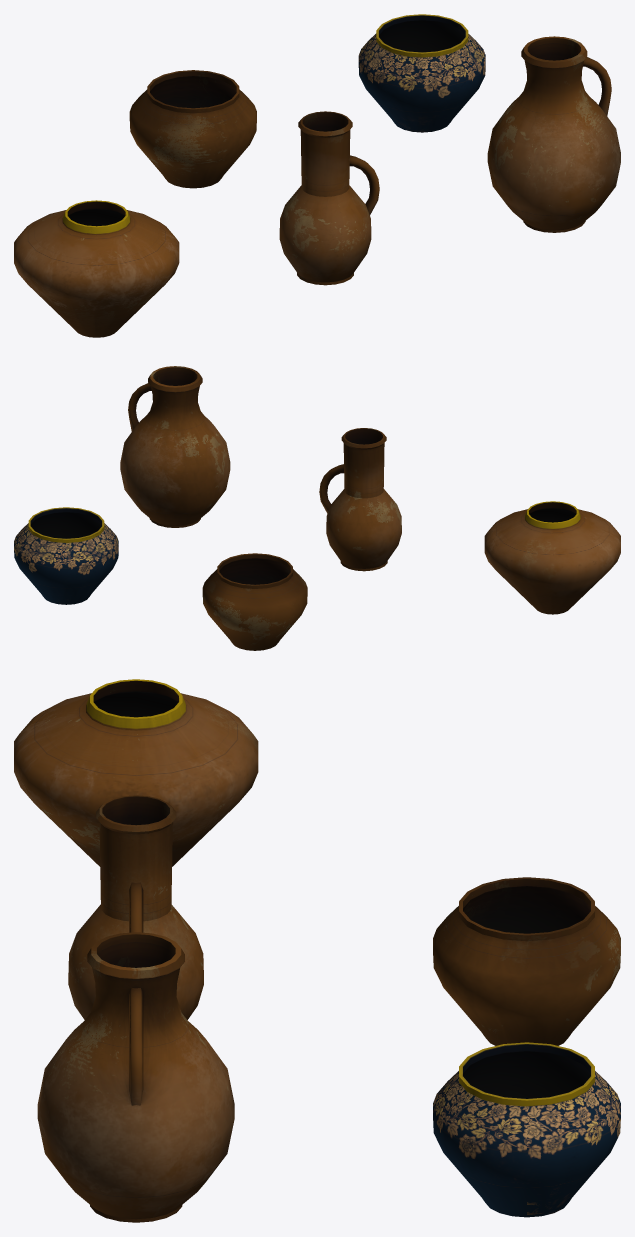
The model's file is Pots.FBX.
3 renders of one model, top to bottom at view 1: azimuth 30°, elevation 25°; view 2: azimuth 150°, elevation 25°; view 3: azimuth 270°, elevation 25°, orthographic. The views are drawn at different scales.
Parts seen in each view (by area): view 1: Pot 4, Pot 1, Pot 5, Pot 3, Pot 2; view 2: Pot 4, Pot 1, Pot 5, Pot 2, Pot 3; view 3: Pot 4, Pot 1, Pot 3, Pot 2, Pot 5.
Boxes of the visible parts, x1=… form: Pot 4: x1=487, y1=36, x2=620, y2=232; Pot 1: x1=14, y1=200, x2=179, y2=337; Pot 5: x1=279, y1=111, x2=379, y2=285; Pot 3: x1=358, y1=14, x2=485, y2=132; Pot 2: x1=129, y1=70, x2=256, y2=188; Pot 4: x1=120, y1=366, x2=230, y2=527; Pot 1: x1=484, y1=501, x2=620, y2=614; Pot 5: x1=319, y1=428, x2=401, y2=571; Pot 2: x1=202, y1=553, x2=307, y2=650; Pot 3: x1=14, y1=507, x2=118, y2=604; Pot 4: x1=37, y1=932, x2=234, y2=1222; Pot 1: x1=14, y1=679, x2=258, y2=866; Pot 3: x1=433, y1=1042, x2=620, y2=1217; Pot 2: x1=433, y1=877, x2=620, y2=1045; Pot 5: x1=68, y1=795, x2=203, y2=1019.
Size of the model in its own units: 129 by 35.57 by 77.66.
